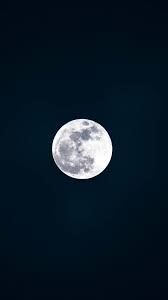moon: (48, 115, 117, 182)
